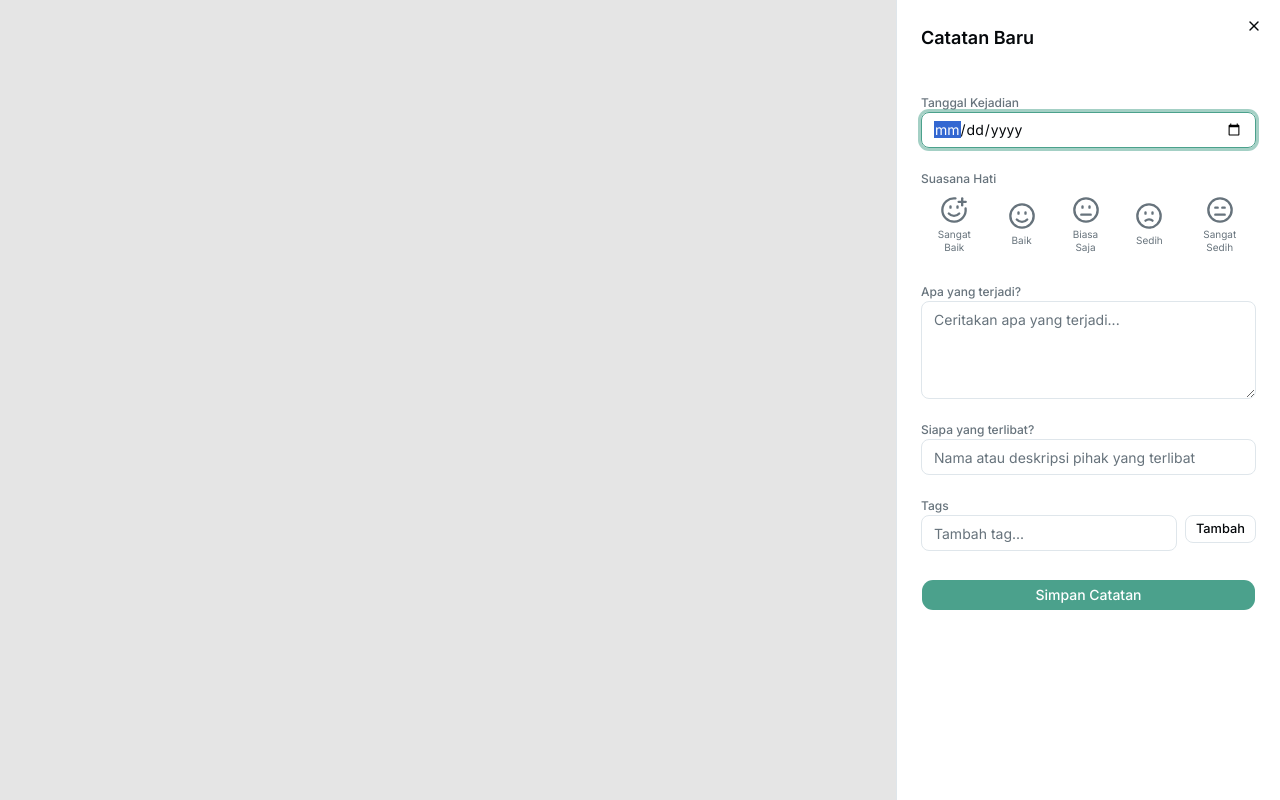
it: JournalSheet › shows validation error when content is empty on save
Click the button "Simpan Catatan". click: [1088, 595]
box: [921,579,1256,611]
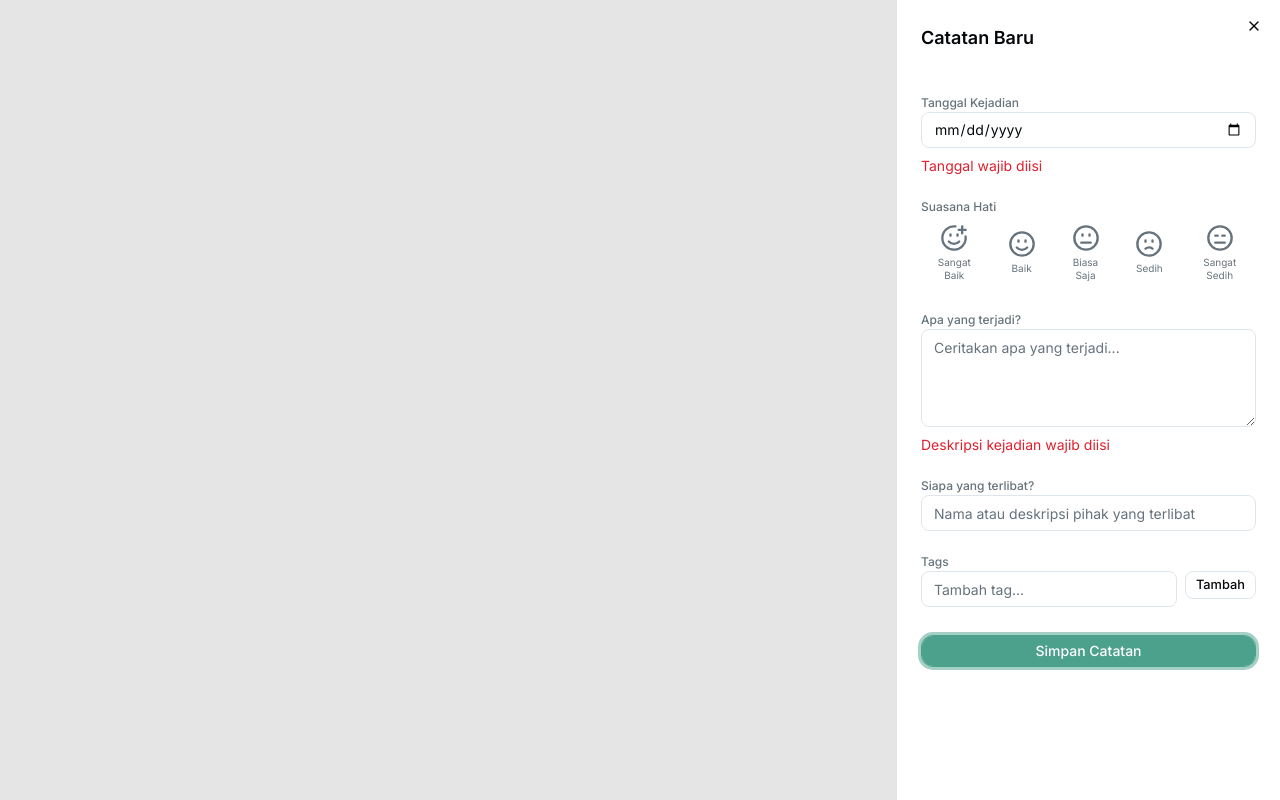
Check: the text "Deskripsi kejadian wajib diisi" is shown, box [921,436,1110,453]
